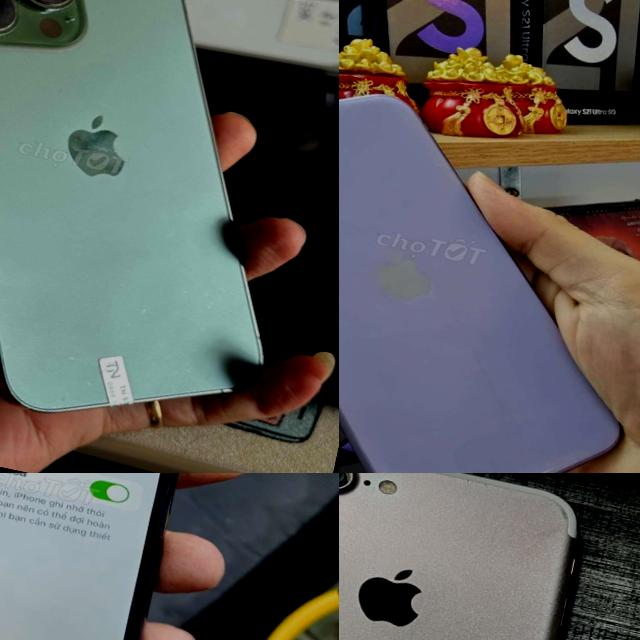scratch: (554, 501, 572, 523)
